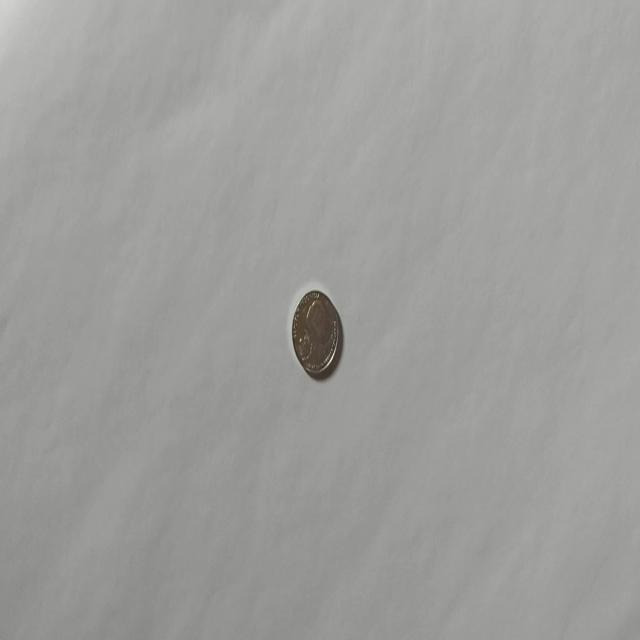seratus rupiah: (290, 288, 340, 378)
